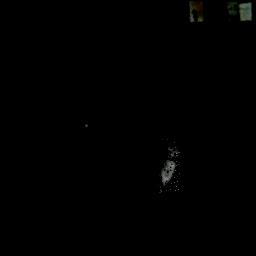boat: (158, 138, 181, 192)
